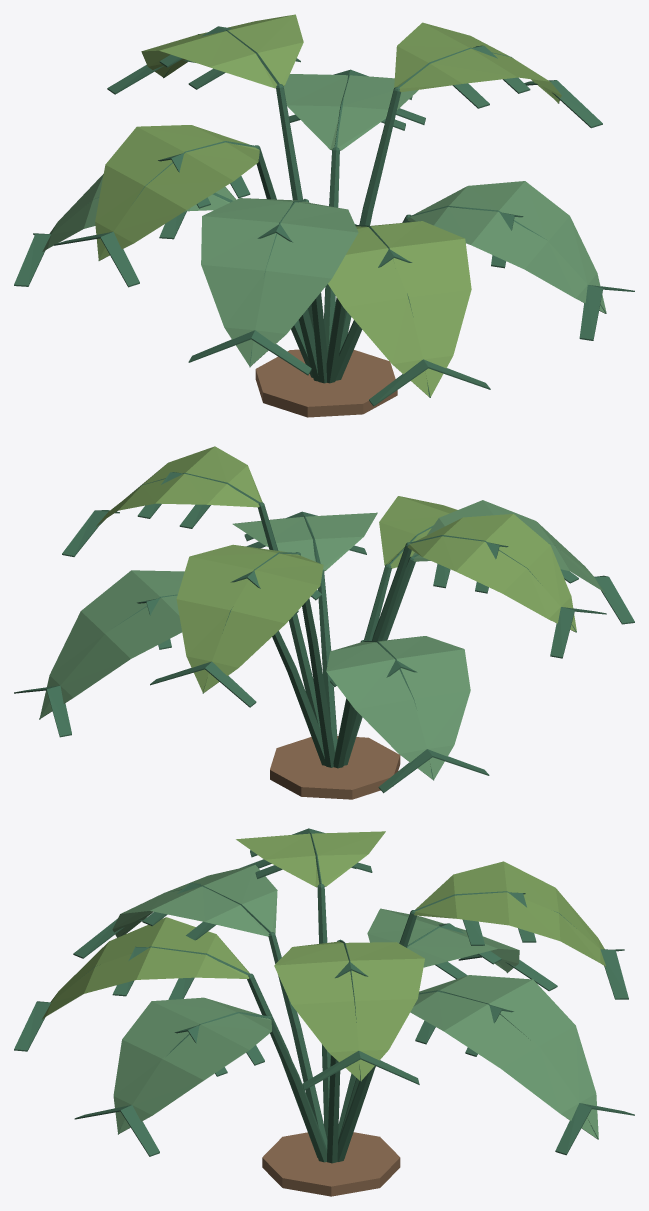
Rendered from PLANT_08.obj.
3 renders of one model, top to bottom at view 1: azimuth 30°, elevation 25°; view 2: azimuth 150°, elevation 25°; view 3: azimuth 270°, elevation 25°, orthographic. The views are drawn at different scales.
Parts seen in each view (by area): view 1: leaf_4, leaf_3, leaf_5, leaf_2, leaf_7, leaf_1, leaf_8, soil, leaf_6, stem_1, leaf_5_lobe, leaf_1_lobe (+12 smaller); view 2: leaf_7, leaf_6, leaf_8, leaf_5, soil, leaf_1, leaf_2, leaf_3, leaf_4, stem_7, leaf_1_lobe, stem_1 (+11 smaller); view 3: leaf_8, leaf_1, leaf_2, leaf_7, leaf_3, leaf_4, soil, leaf_5, leaf_6, stem_4, stem_2, leaf_7_lobe (+11 smaller).
Boxes of the visible parts, x1=… form: leaf_4: x1=201, y1=198, x2=358, y2=366; leaf_3: x1=328, y1=221, x2=471, y2=397; leaf_5: x1=95, y1=125, x2=259, y2=260; leaf_2: x1=407, y1=181, x2=606, y2=313; leaf_7: x1=141, y1=14, x2=303, y2=88; leaf_1: x1=394, y1=22, x2=561, y2=103; leaf_8: x1=283, y1=74, x2=418, y2=150; soil: x1=255, y1=349, x2=397, y2=417; leaf_6: x1=42, y1=174, x2=236, y2=251; stem_1: x1=339, y1=87, x2=400, y2=352; leaf_5_lobe: x1=54, y1=153, x2=250, y2=287; leaf_1_lobe: x1=452, y1=45, x2=602, y2=128; leaf_7: x1=176, y1=544, x2=323, y2=693; leaf_6: x1=326, y1=636, x2=470, y2=779; leaf_8: x1=39, y1=570, x2=184, y2=718; leaf_5: x1=407, y1=514, x2=576, y2=632; soil: x1=270, y1=736, x2=400, y2=799; leaf_1: x1=96, y1=446, x2=262, y2=526; leaf_2: x1=232, y1=512, x2=377, y2=571; leaf_3: x1=379, y1=496, x2=457, y2=568; leaf_4: x1=412, y1=500, x2=604, y2=593; stem_7: x1=296, y1=552, x2=334, y2=767; leaf_1_lobe: x1=62, y1=472, x2=210, y2=556; stem_1: x1=257, y1=502, x2=320, y2=729; leaf_8: x1=410, y1=975, x2=598, y2=1138; leaf_1: x1=274, y1=941, x2=424, y2=1080; leaf_2: x1=113, y1=997, x2=271, y2=1134; leaf_7: x1=414, y1=861, x2=606, y2=966; leaf_3: x1=42, y1=917, x2=249, y2=1019; leaf_4: x1=112, y1=864, x2=277, y2=937; soil: x1=262, y1=1132, x2=400, y2=1196; leaf_5: x1=236, y1=831, x2=385, y2=887; leaf_6: x1=367, y1=908, x2=519, y2=972; stem_4: x1=268, y1=932, x2=327, y2=1148; stem_2: x1=267, y1=1015, x2=326, y2=1162; leaf_7_lobe: x1=463, y1=892, x2=628, y2=999.
Bounding box in the file's own units: 4.11 × 2.22 × 4.5.
